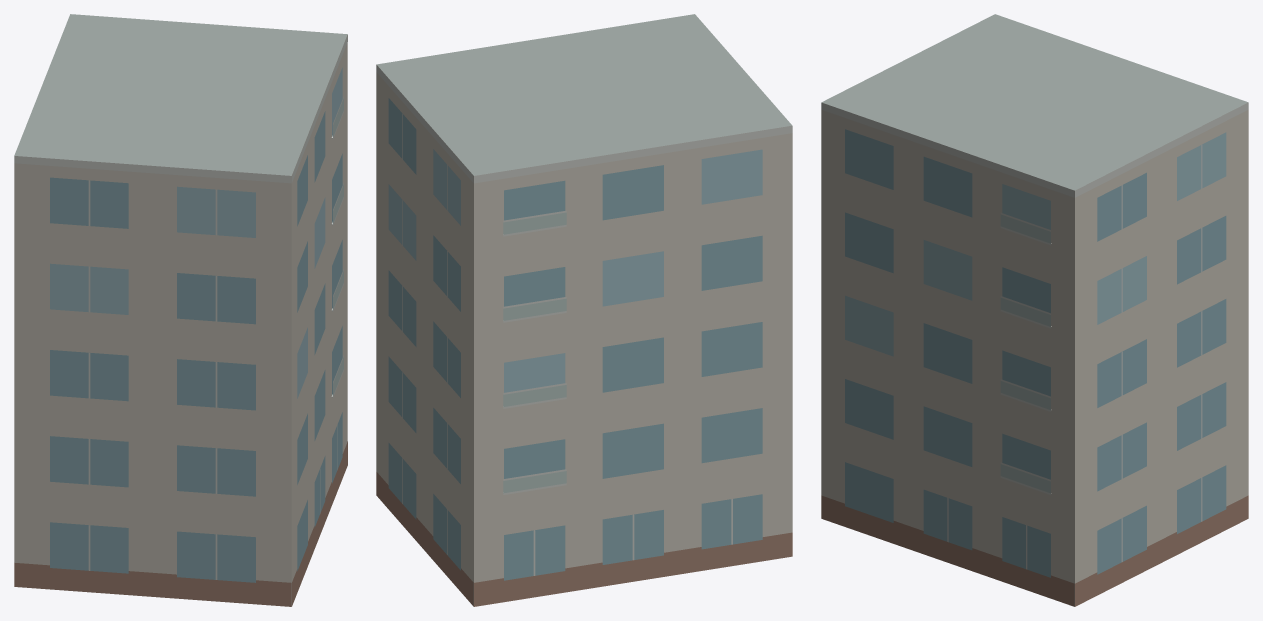
File: survey-upis-32670555.glb
The picture shows the model from 3 angles, left to right: view 1: azimuth 30°, elevation 25°; view 2: azimuth 150°, elevation 25°; view 3: azimuth 270°, elevation 25°; orthographic projection. The views are drawn at different scales.
Parts seen in each view (by area): view 1: survey-upis-32670555.tmp; view 2: survey-upis-32670555.tmp; view 3: survey-upis-32670555.tmp.
Boxes of the visible parts, left/top/right/bottom form: survey-upis-32670555.tmp: left=14, top=14, right=347, bottom=606; survey-upis-32670555.tmp: left=376, top=14, right=792, bottom=606; survey-upis-32670555.tmp: left=821, top=14, right=1248, bottom=606.
Size of the model in its own units: 12.84 by 14.1 by 13.13.
